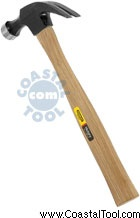hammer: (2, 1, 139, 208)
